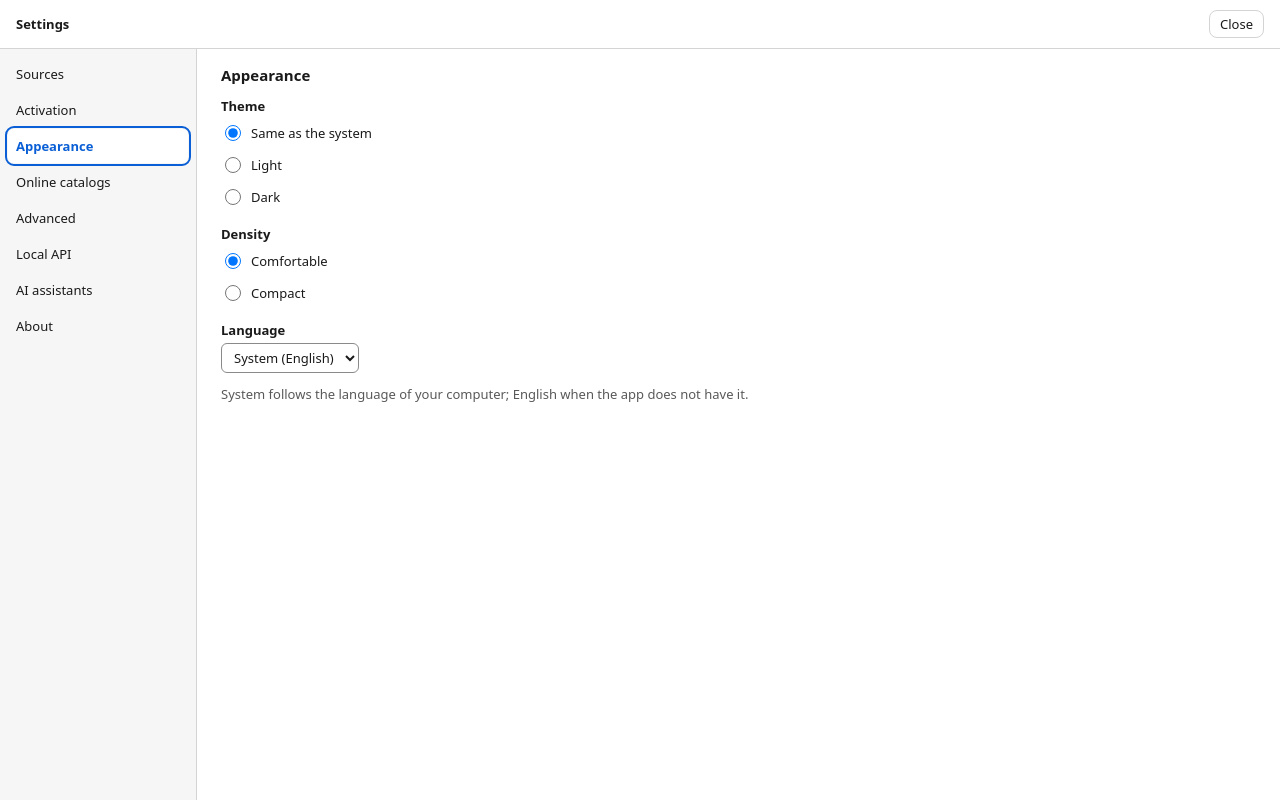
it: Settings window › offers the languages and relabels the window the moment one is chosen
Expected: the label named "language" reads "Language", top-left (221, 321), bottom-right (285, 339)
Expected: the heading "Appearance" is shown, top-left (221, 65), bottom-right (310, 85)
Step 1. Select "Deutsch" in the dropdown named "language" → x=290, y=358, box top-left (221, 343), bottom-right (359, 373)
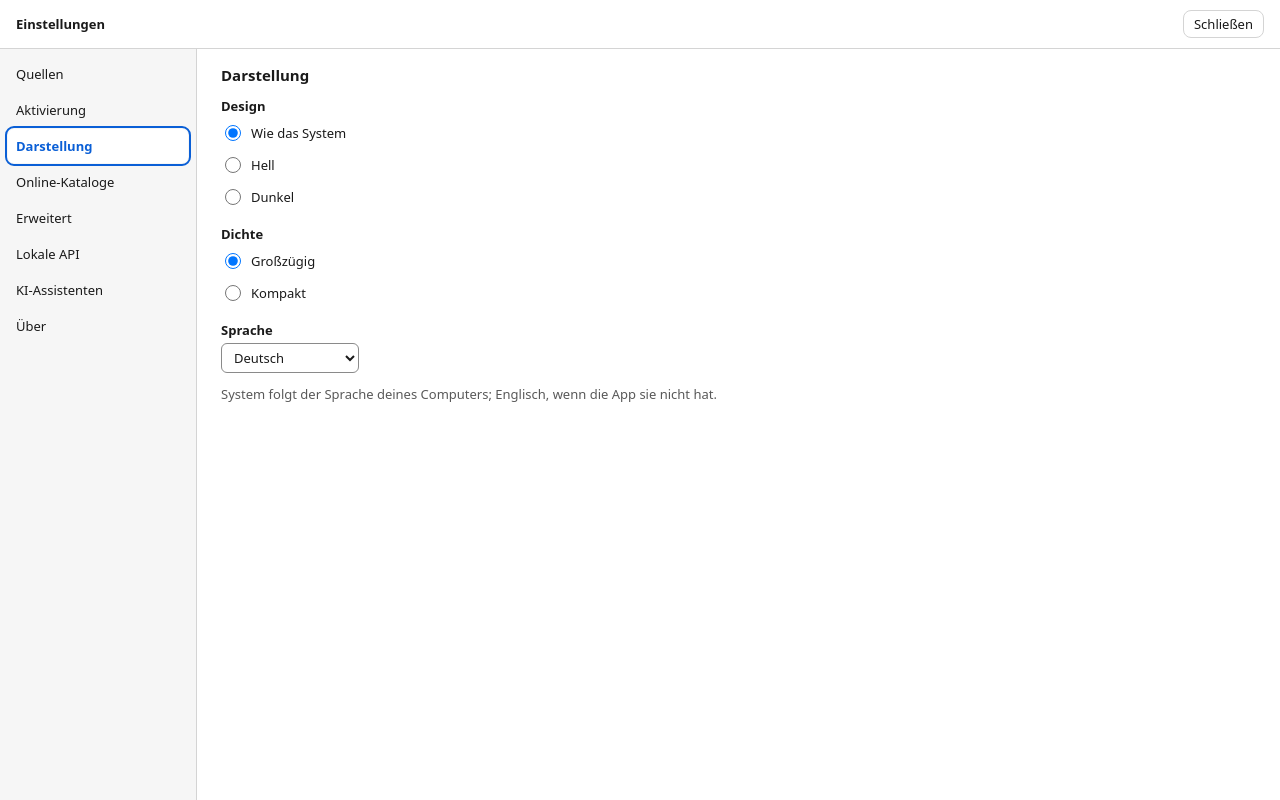
Expected: the heading "Darstellung" is shown, top-left (221, 65), bottom-right (309, 85)
Expected: the tab "Darstellung" is shown, top-left (8, 129), bottom-right (188, 163)
